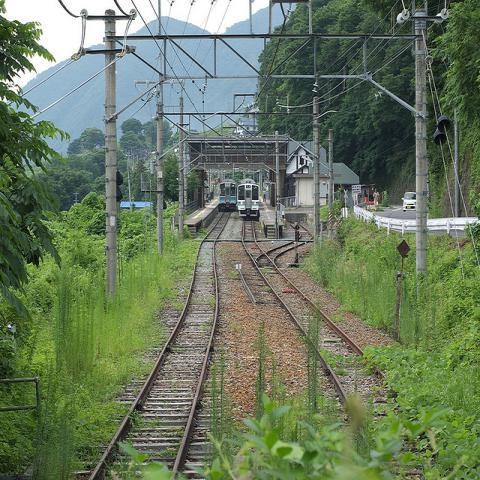car: (402, 192, 416, 213)
